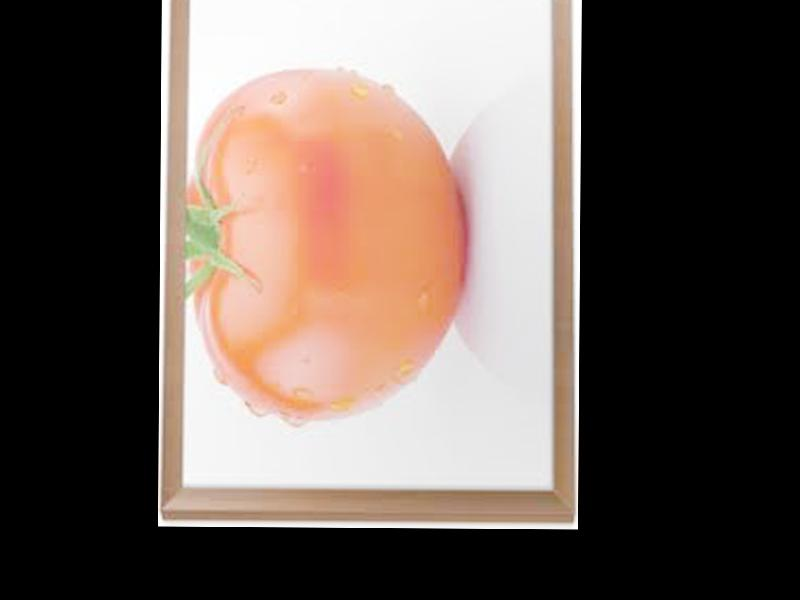Tomato: (182, 69, 467, 422)
